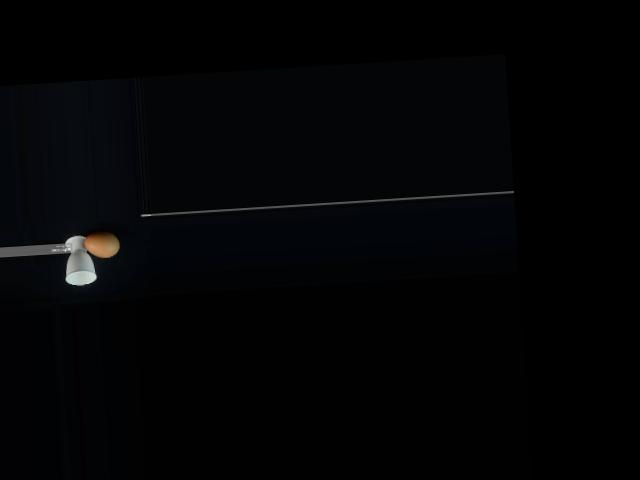egg: (83, 231, 119, 259)
